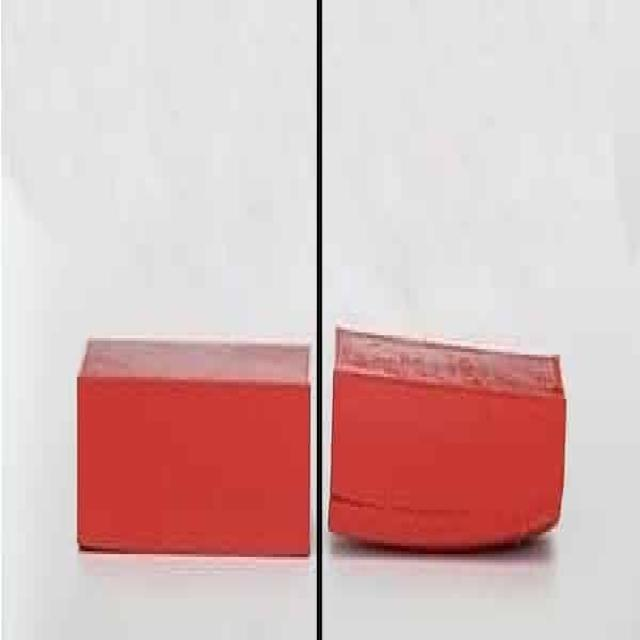warping: (449, 503, 563, 547), (329, 512, 423, 553), (77, 522, 121, 555)
